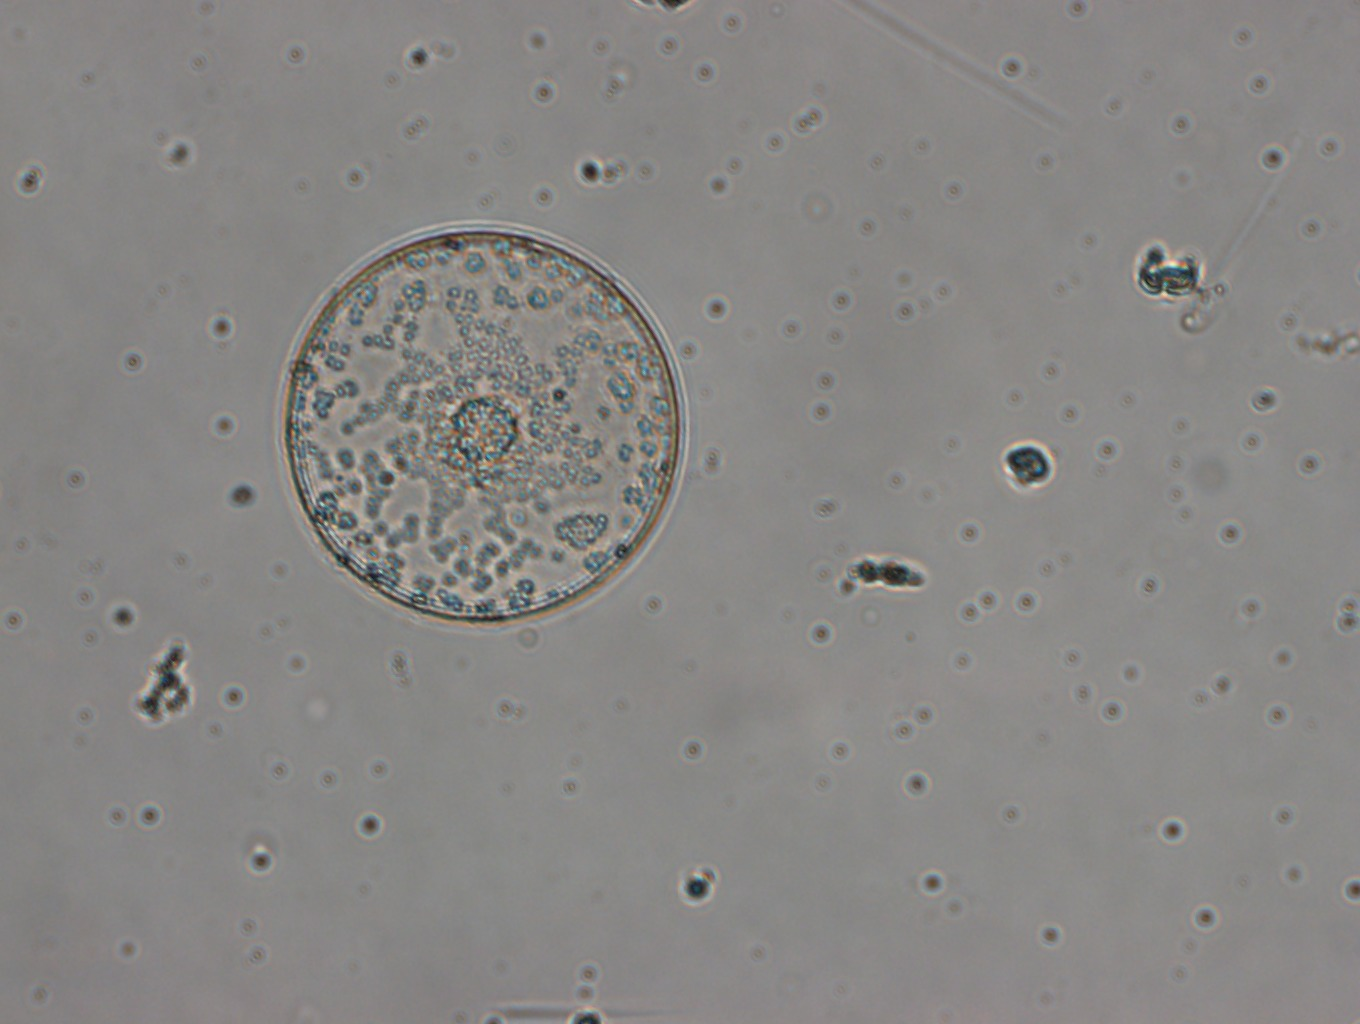coscinodiscus: (275, 221, 688, 632)
